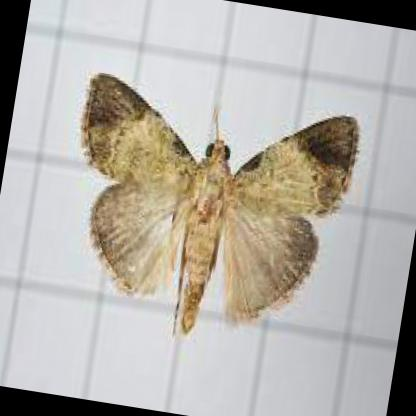Leaf Webber: (80, 64, 361, 341)
